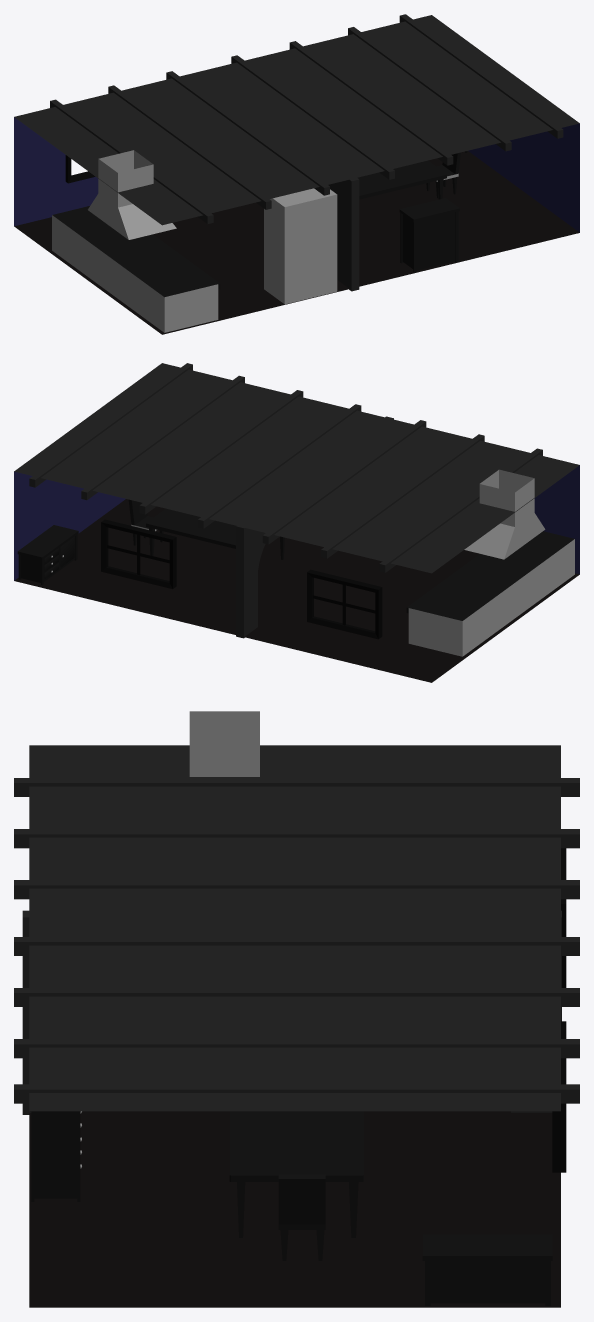
The model's file is Cocina_GEO.FBX.
3 views of the same model, one above another, from view 1: azimuth 30°, elevation 25°; view 2: azimuth 150°, elevation 25°; view 3: azimuth 270°, elevation 25° (orthographic). The views are drawn at different scales.
Visible parts, largest first — view 1: Cocina-Comedor_GEO, ENCIMERA_GEO, Object002, FRIGORIFICO_GEO, Extractor_GEO, Cajonera_04_GEO003, ARC_GEO, Mesa_004, SIlla_GE; view 2: Cocina-Comedor_GEO, ENCIMERA_GEO, Object002, Extractor_GEO, ARC_GEO, Cajonera_003, VENTANA_GEO003, VENTANA_GEO004, Mesa_004, SIlla_GE; view 3: Cocina-Comedor_GEO, Object002, Mesa_004, Cajonera_003, Extractor_GEO, Cajonera_04_GEO003, SIlla_GE, VENTANA_GEO003, ARC_GEO.
Part boxes in pixels (box(x1,y1,x2,y2)): Cocina-Comedor_GEO: box(14, 15, 579, 334); ENCIMERA_GEO: box(52, 206, 220, 332); Object002: box(50, 14, 563, 223); FRIGORIFICO_GEO: box(264, 188, 337, 304); Extractor_GEO: box(88, 150, 176, 239); Cajonera_04_GEO003: box(399, 198, 459, 272); ARC_GEO: box(328, 178, 359, 291); Mesa_004: box(357, 160, 446, 199); SIlla_GE: box(426, 152, 460, 198); Cocina-Comedor_GEO: box(14, 363, 579, 682); ENCIMERA_GEO: box(406, 531, 574, 656); Object002: box(29, 363, 542, 572); Extractor_GEO: box(464, 469, 545, 559); ARC_GEO: box(236, 416, 393, 638); Cajonera_003: box(17, 525, 78, 585); VENTANA_GEO003: box(101, 519, 176, 588); VENTANA_GEO004: box(307, 569, 382, 639); Mesa_004: box(146, 508, 284, 559); SIlla_GE: box(128, 499, 163, 545); Cocina-Comedor_GEO: box(29, 745, 560, 1307); Object002: box(14, 778, 579, 1103); Mesa_004: box(229, 1111, 363, 1237); Cajonera_003: box(422, 1234, 552, 1305); Extractor_GEO: box(189, 711, 259, 776); Cajonera_04_GEO003: box(30, 1111, 81, 1201); SIlla_GE: box(278, 1174, 325, 1260); VENTANA_GEO003: box(552, 1021, 566, 1172); ARC_GEO: box(22, 910, 561, 1114).
Bounding box in the file's own units: 1198 × 356 × 783.
